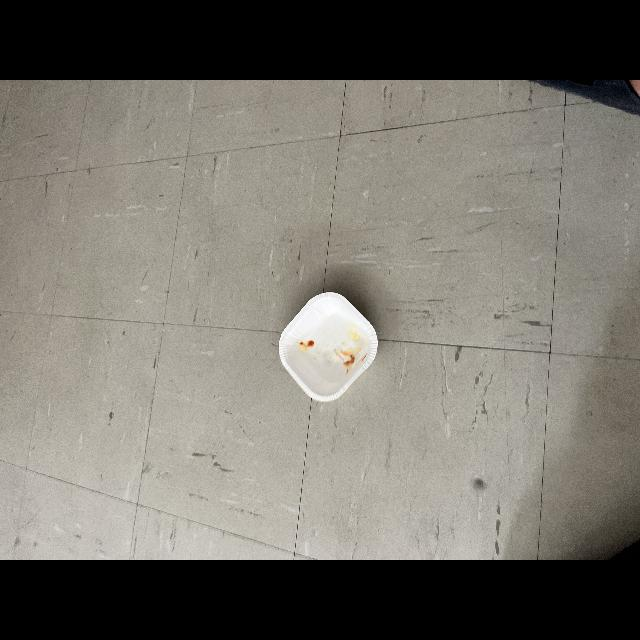cardboard_bowl: (274, 289, 381, 403)
